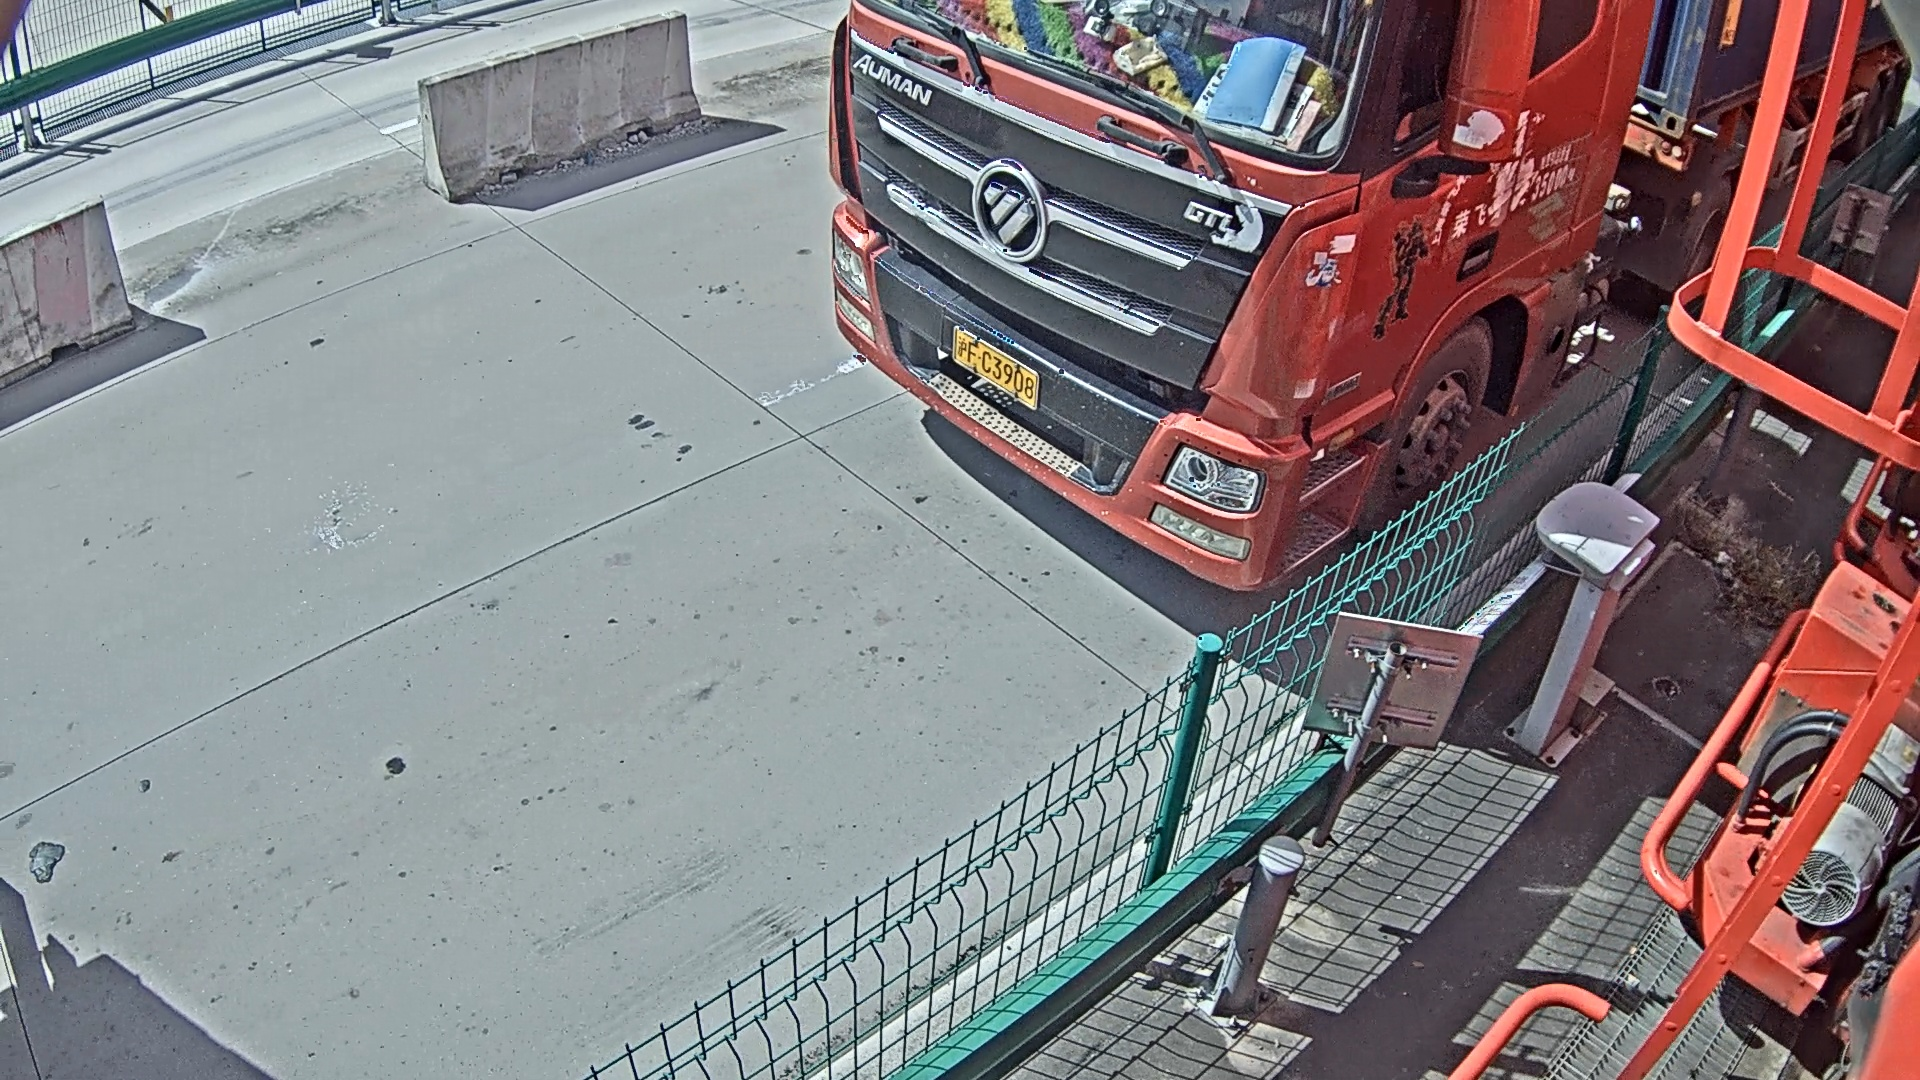head: (828, 1, 1670, 591)
plate: (960, 319, 1036, 408)
